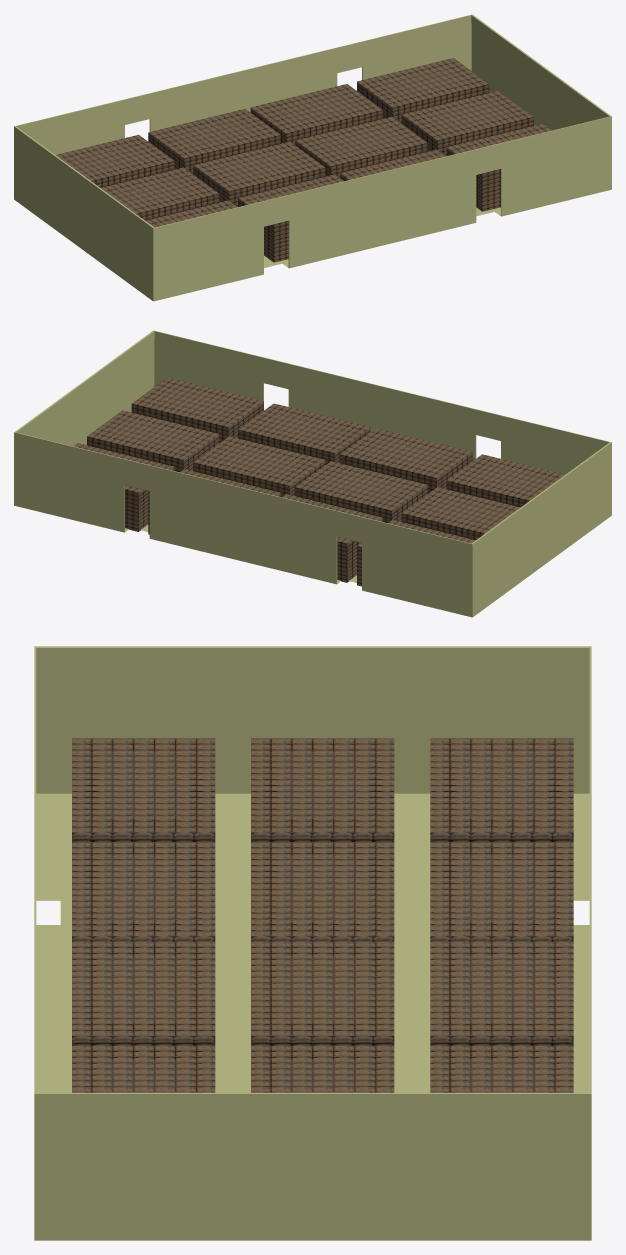
The model's file is WareHouse_Structure_DAE_V9(Dummy).dae.
3 views of the same model, one above another, from view 1: azimuth 30°, elevation 25°; view 2: azimuth 150°, elevation 25°; view 3: azimuth 270°, elevation 25° (orthographic). The views are drawn at different scales.
Parts seen in each view (by area): view 1: Cube.012, Top_View_of_Stack.001; view 2: Cube.012, Top_View_of_Stack.001; view 3: Cube.012, Top_View_of_Stack.001.
Boxes of the visible parts, left/top/right/bottom form: Cube.012: left=14, top=14, right=611, bottom=301; Top_View_of_Stack.001: left=56, top=58, right=552, bottom=262; Cube.012: left=14, top=330, right=611, bottom=617; Top_View_of_Stack.001: left=73, top=377, right=564, bottom=586; Cube.012: left=34, top=646, right=591, bottom=1240; Top_View_of_Stack.001: left=72, top=738, right=573, bottom=1092.
Bounding box in the file's own units: 42.19 × 22.21 × 6.47.
Materials: 4 (3 with a texture image).
